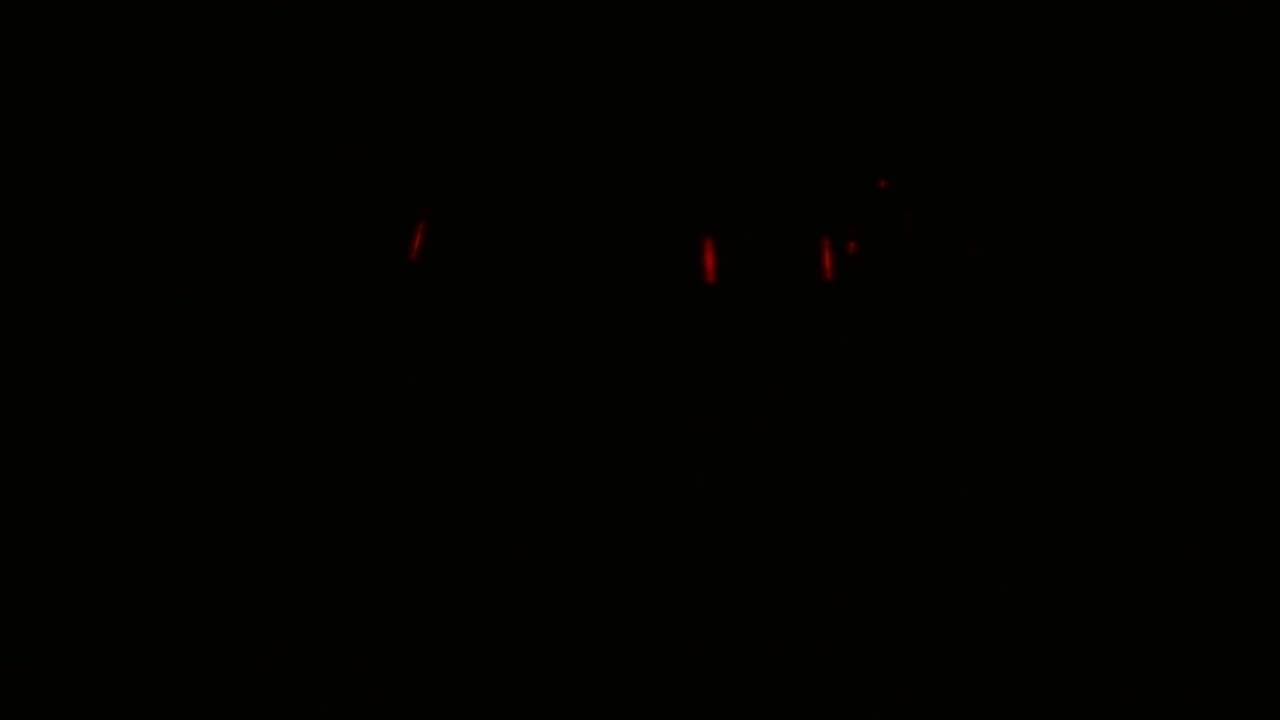pair1: (700, 228, 841, 292)
